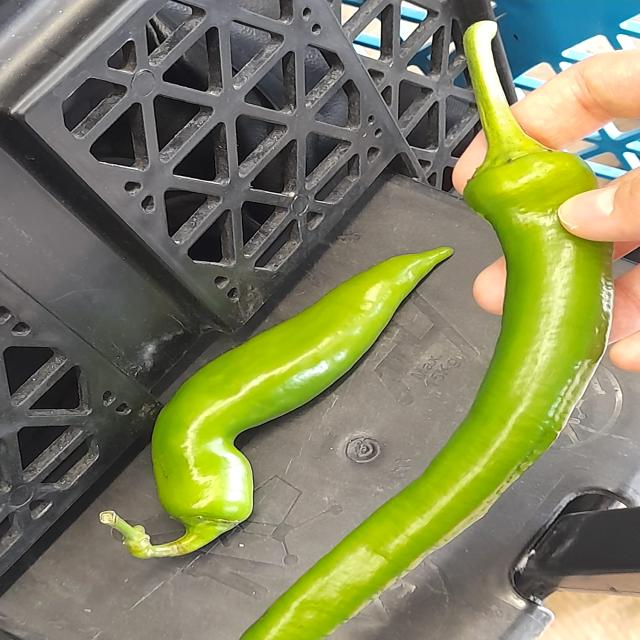green pepper: (230, 25, 628, 640), (95, 235, 472, 559)
